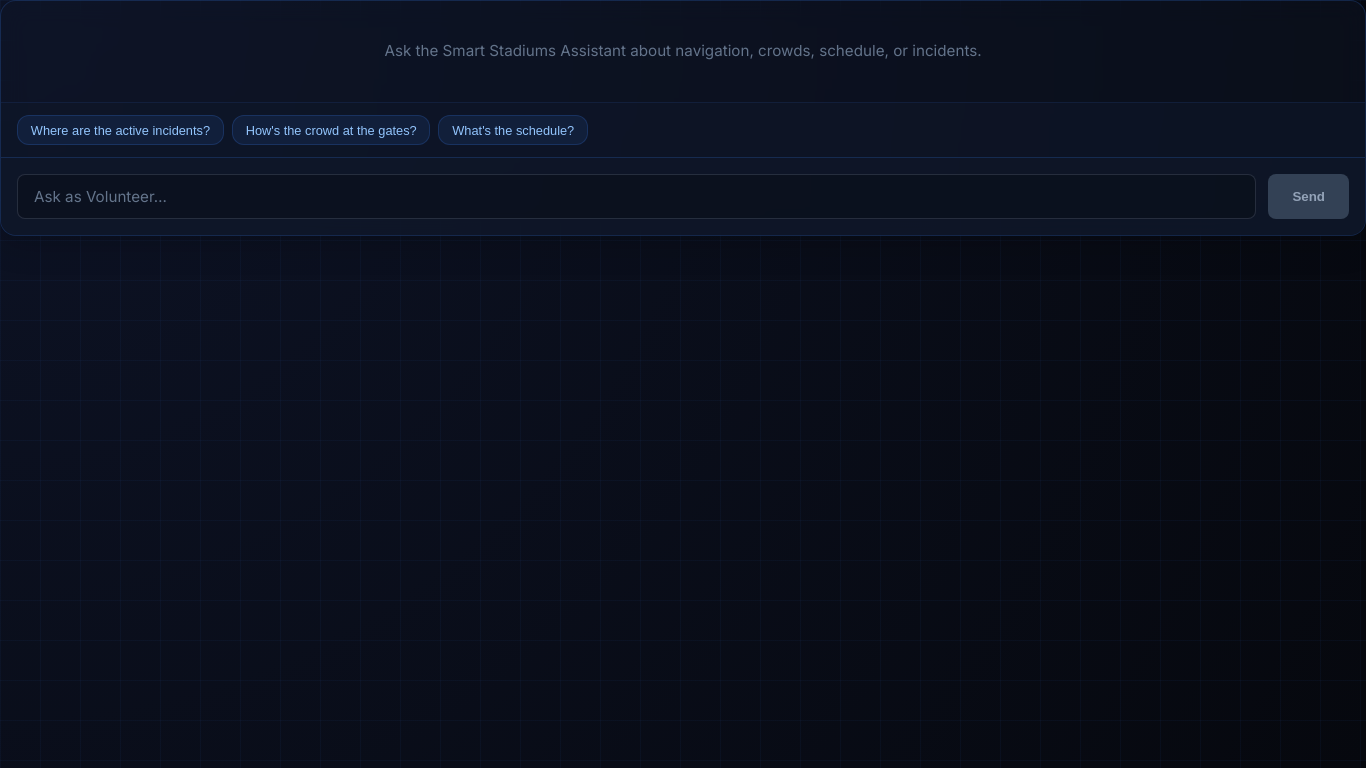
Scenario: shows error message on failure
The image size is (1366, 768).
Type "hi" into the field with placeholder "Ask as Volunteer…" at coordinates (637, 196), box [17, 174, 1256, 219]
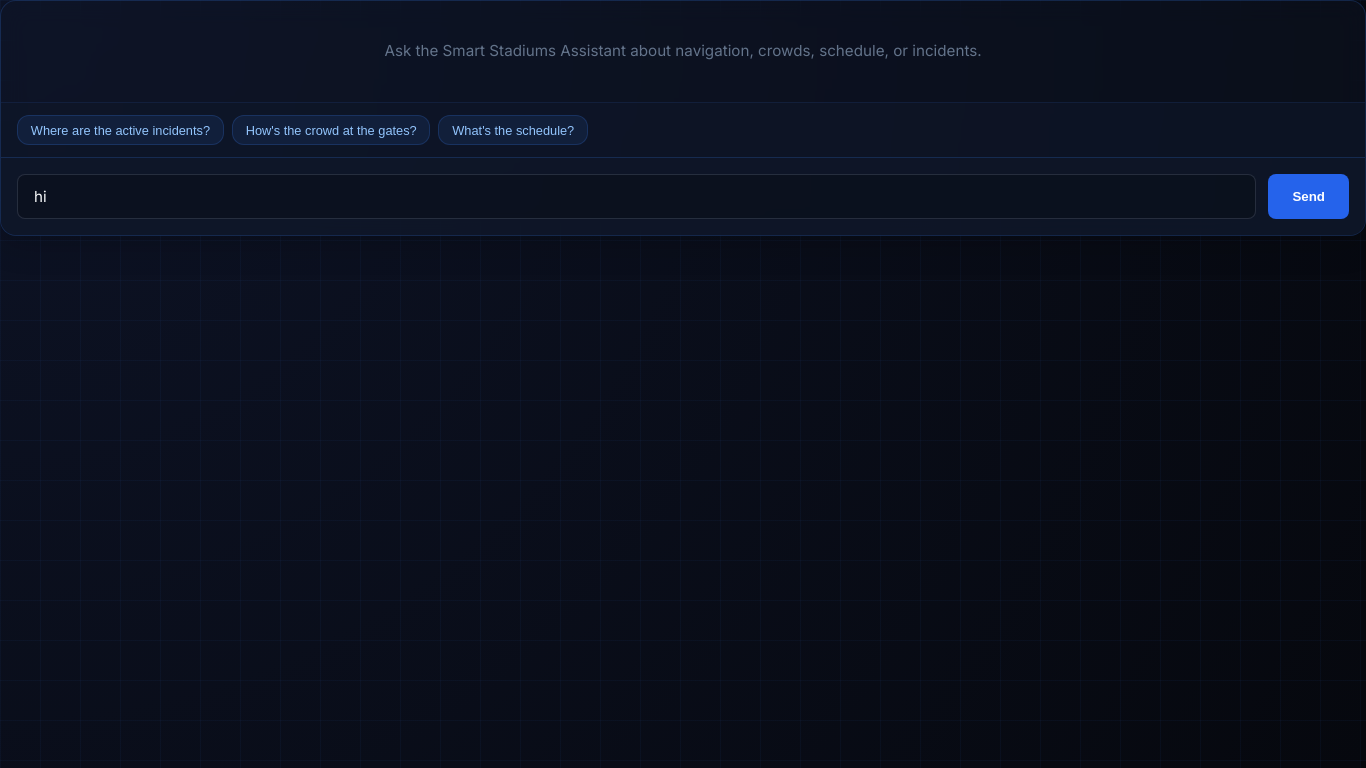
Click the button "Send" at coordinates (1309, 196), box [1268, 174, 1349, 219]
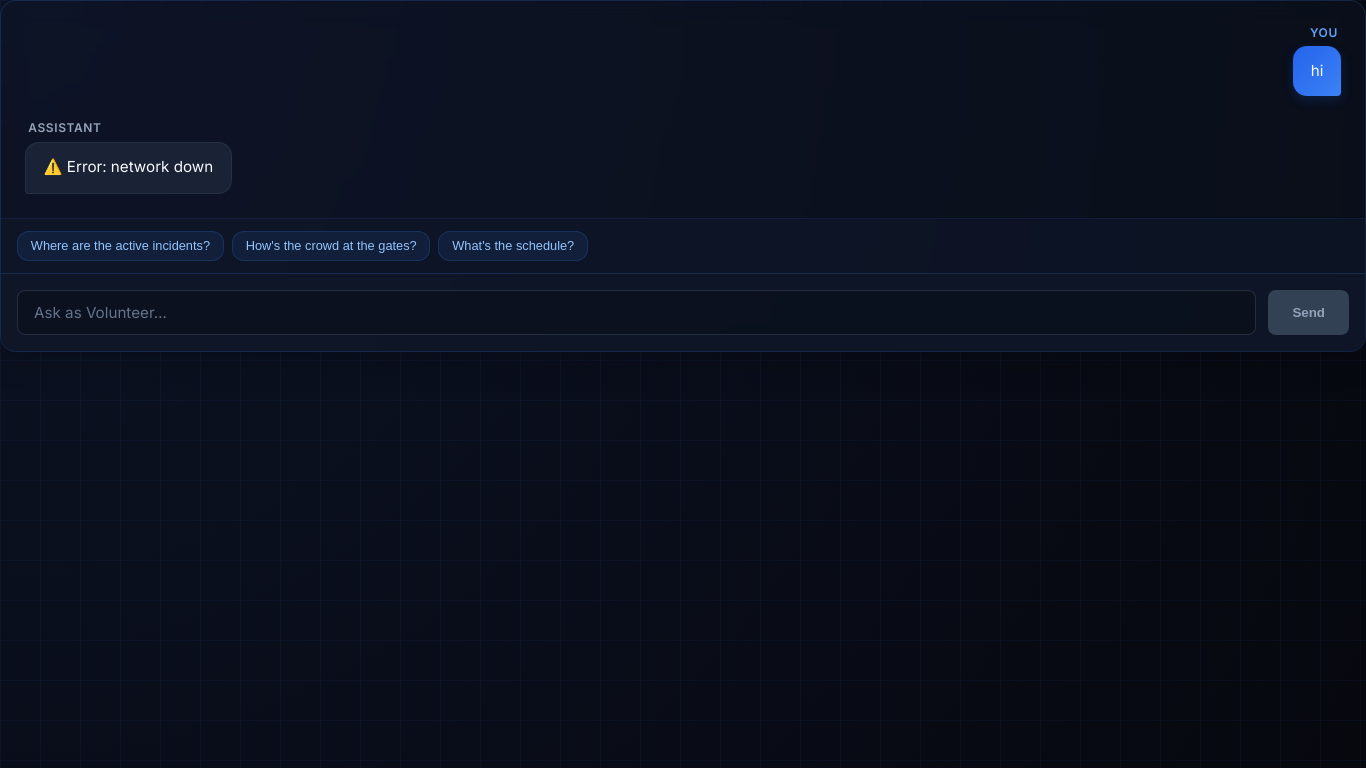
Now the text "⚠️ Error: network down" is shown, box [25, 142, 232, 194]
